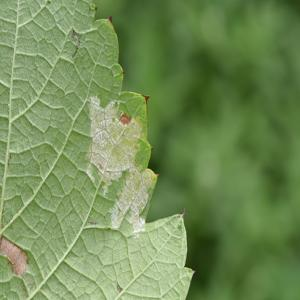Folha: (0, 0, 195, 299)
Fungo: (85, 94, 151, 196), (112, 165, 158, 232), (0, 235, 28, 278), (71, 28, 82, 58), (118, 112, 131, 125), (89, 3, 96, 17), (179, 208, 185, 219)
